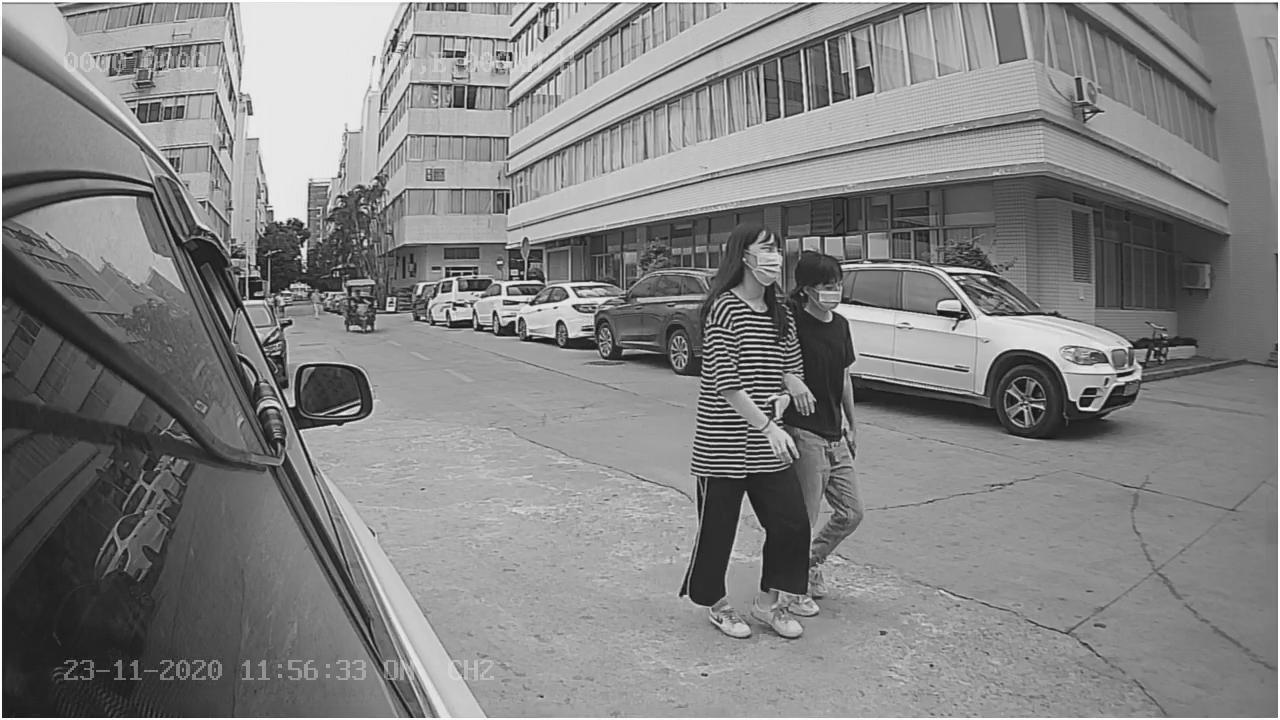person: (668, 218, 807, 647), (778, 254, 871, 610)
